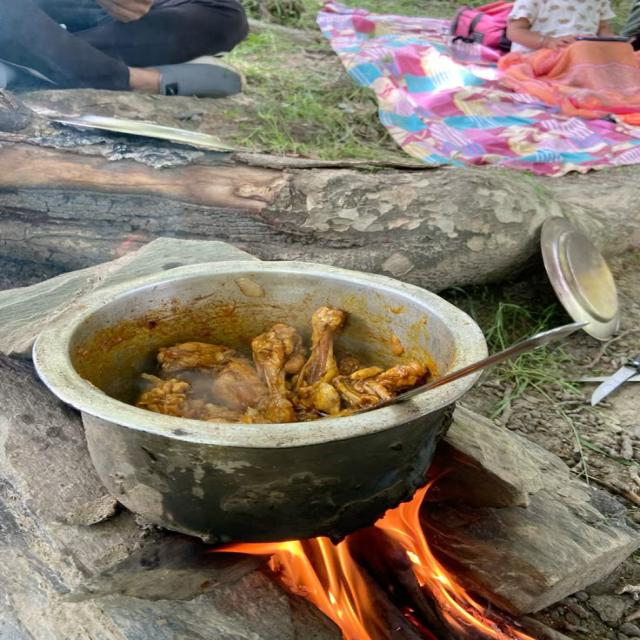fire: (375, 479, 537, 640), (217, 537, 385, 640)
